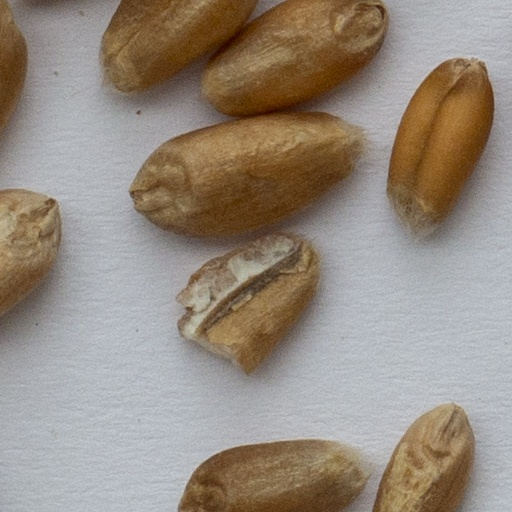Wheat-grain-damaged-poly: (169, 231, 324, 379)
